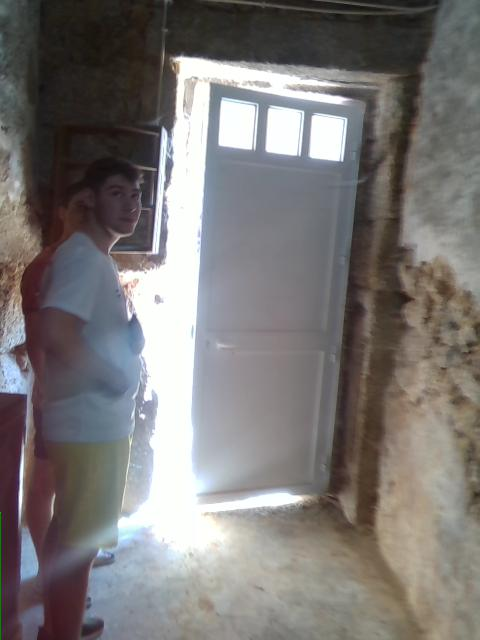door: (186, 77, 365, 503)
